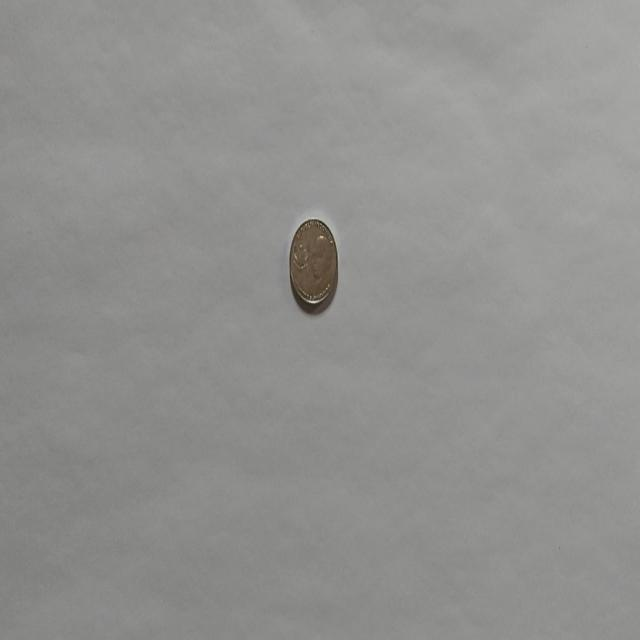lima ratus rupiah: (288, 216, 338, 312)
